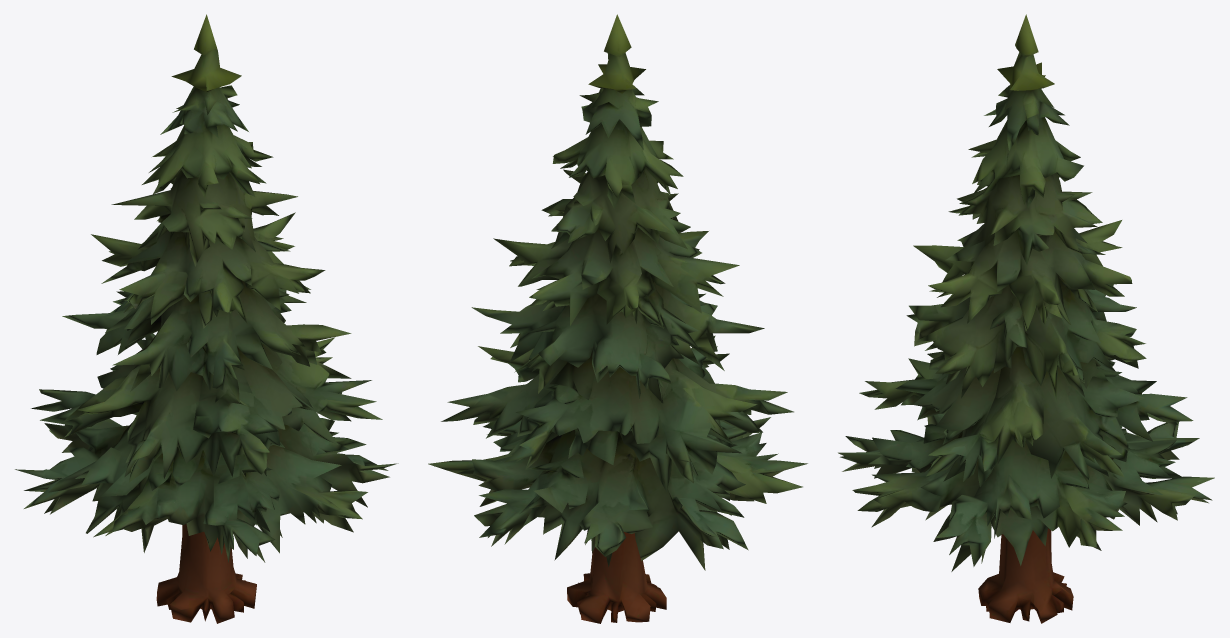
Rendered from tree_pine.glb.
3 renders of one model, left to right at view 1: azimuth 30°, elevation 25°; view 2: azimuth 150°, elevation 25°; view 3: azimuth 270°, elevation 25°, orthographic.
Visible parts, largest first — view 1: tripo_node_55fb9a5f-d96f-41fc-9ad4-2e8f32973161; view 2: tripo_node_55fb9a5f-d96f-41fc-9ad4-2e8f32973161; view 3: tripo_node_55fb9a5f-d96f-41fc-9ad4-2e8f32973161.
Part boxes in pixels (x1,y1,x2,y2): tripo_node_55fb9a5f-d96f-41fc-9ad4-2e8f32973161: (15,14,398,623); tripo_node_55fb9a5f-d96f-41fc-9ad4-2e8f32973161: (428,14,807,623); tripo_node_55fb9a5f-d96f-41fc-9ad4-2e8f32973161: (838,14,1214,623).
Size of the model in its own units: 0.5554 by 1 by 0.5791.
Materials: 1 (1 with a texture image).
